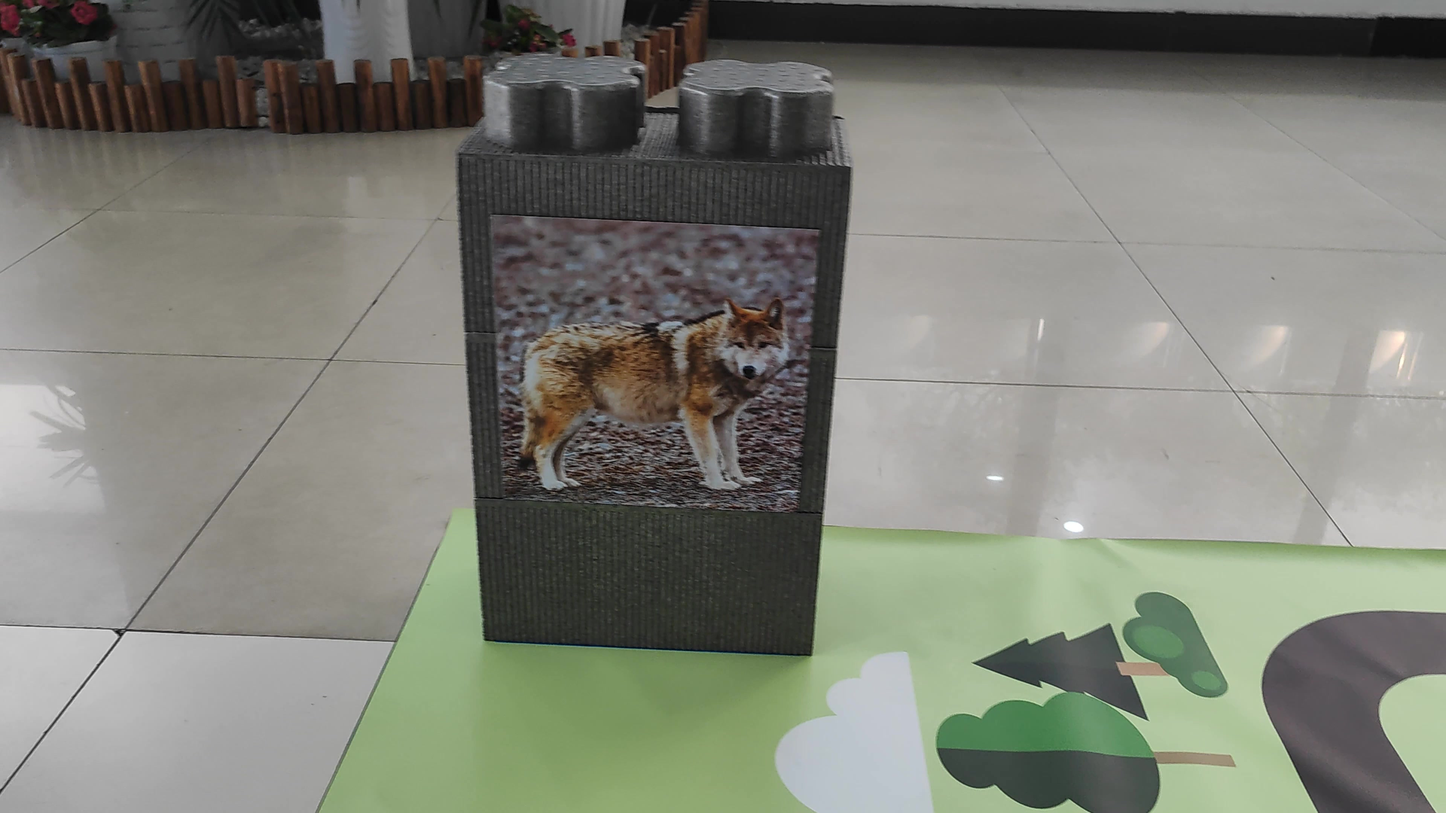wolf: (491, 263, 792, 509)
